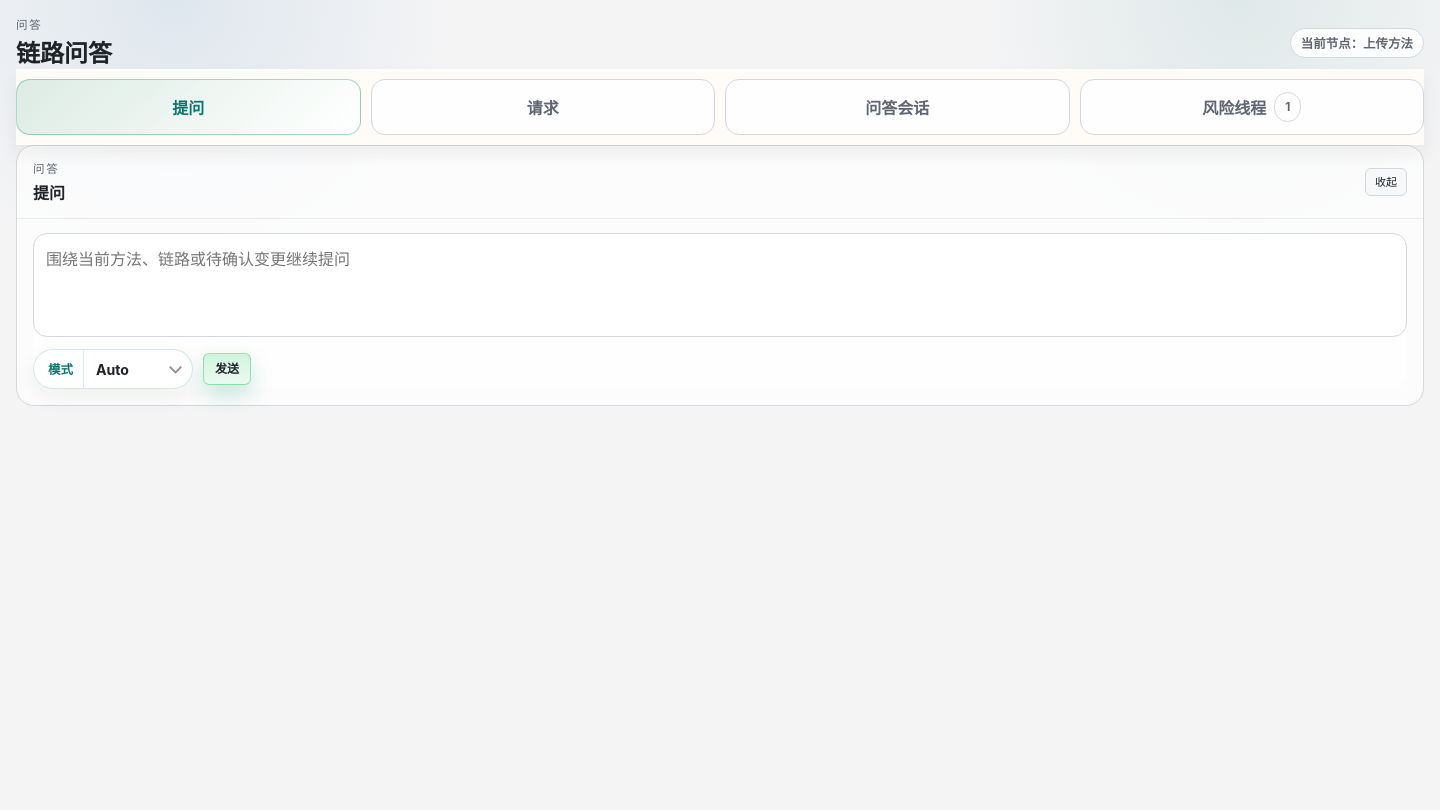
Test case: QaTab › shows the per-turn investigation outcome alongside the assistant message
This screenshot has width=1440, height=810.
Click the tab "问答会话" at {"x": 897, "y": 107}, box 725,79 -> 1070,135
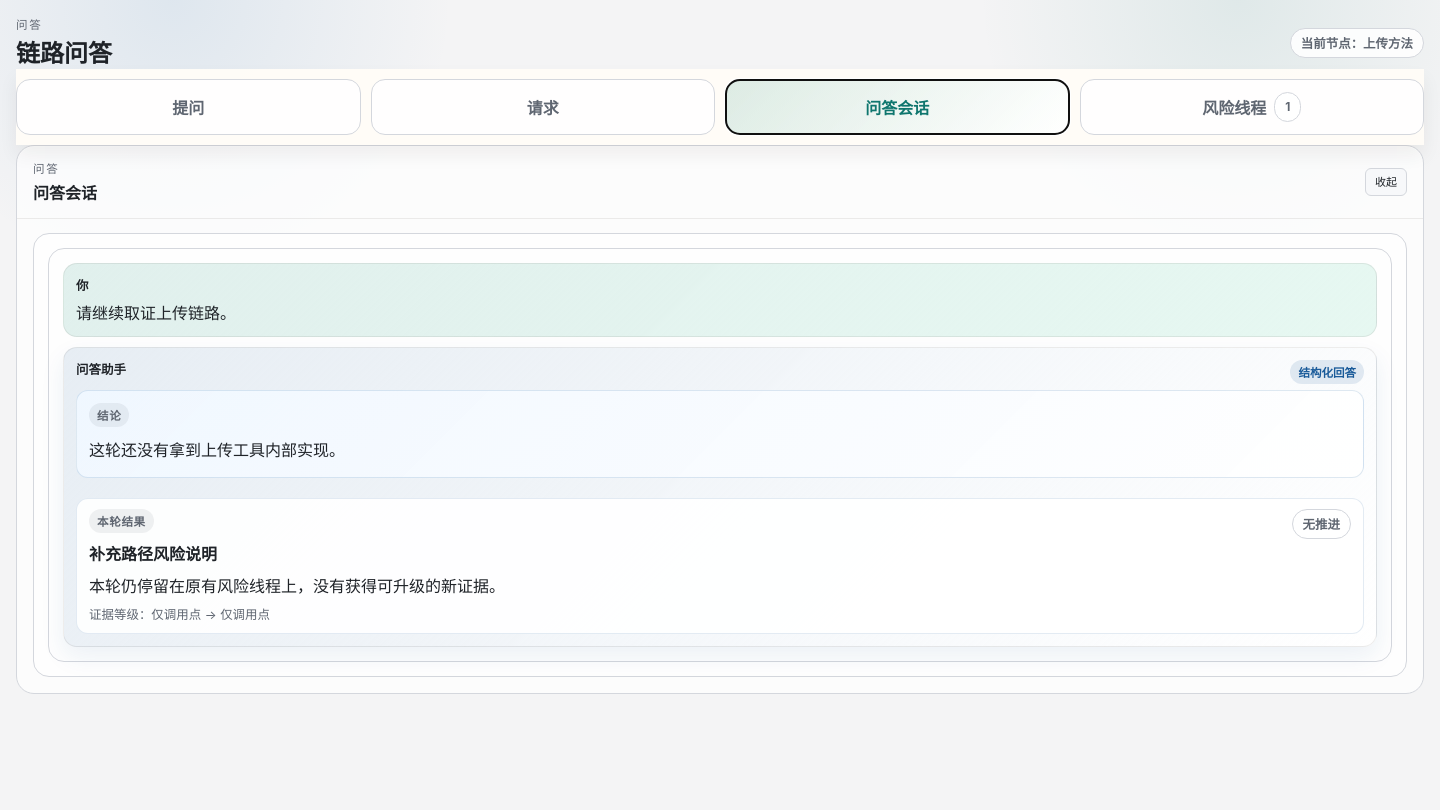
Result: the text "补充路径风险说明" is shown at 89,540 -> 217,564
Result: the text "无推进" is shown at 1292,508 -> 1351,538
Result: the text "本轮仍停留在原有风险线程上，没有获得可升级的新证据。" is shown at 89,576 -> 505,596
